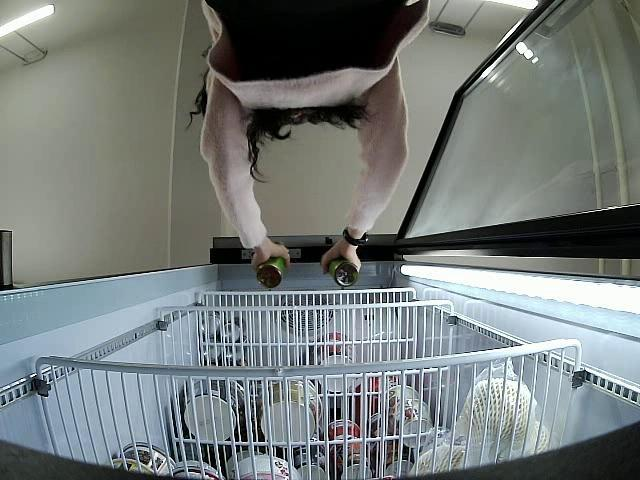19_17cha: (258, 239, 287, 288), (324, 256, 359, 286)
